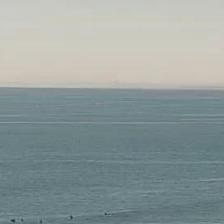surfer: (104, 211, 114, 216), (11, 218, 16, 223), (70, 216, 74, 220), (20, 218, 24, 222), (39, 219, 43, 223)
